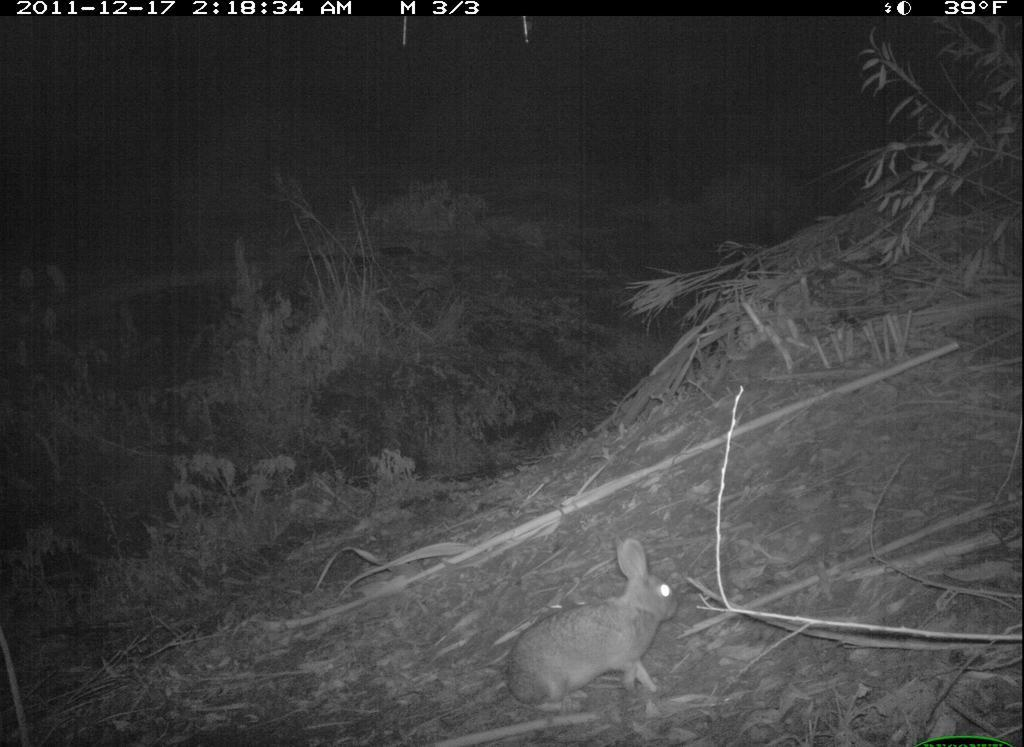rabbit: (493, 528, 689, 718)
